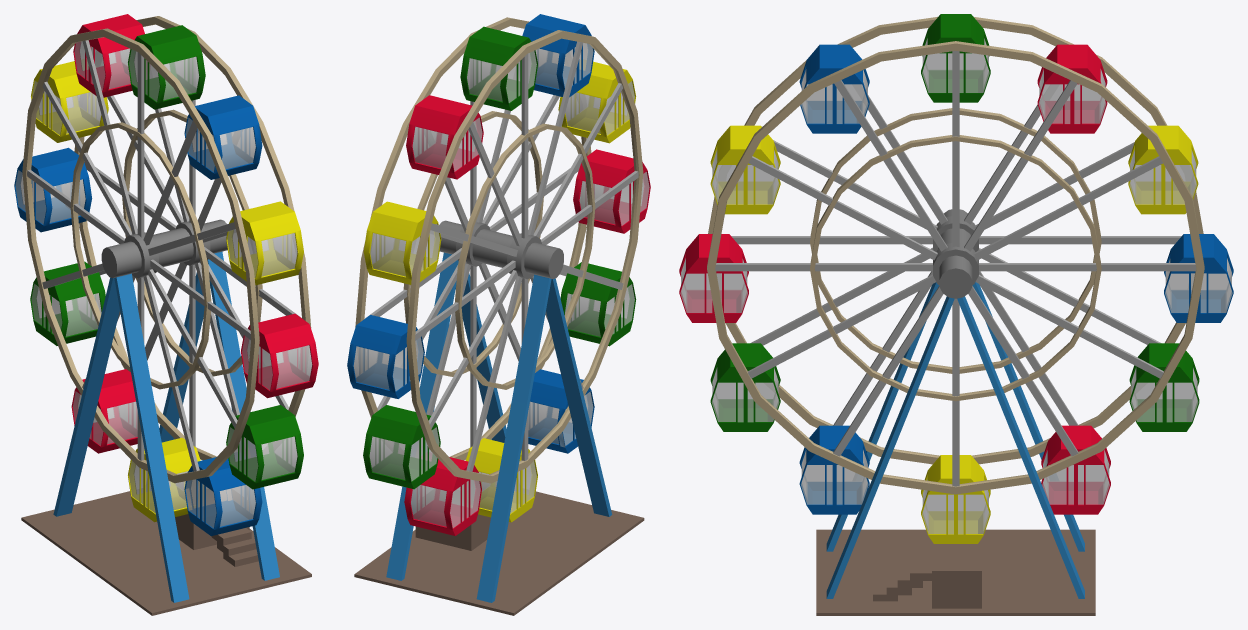
The model's file is FerrisWheelANI.fbx.
3 renders of one model, left to right at view 1: azimuth 30°, elevation 25°; view 2: azimuth 150°, elevation 25°; view 3: azimuth 270°, elevation 25°, orthographic. The views are drawn at different scales.
Parts seen in each view (by area): view 1: Stand, Base, Wheel, InnerWheel, Cart_3, Cart_4, Cart_5, Cart_6, Cart_7, SteelBeam_5, Cart_2, Cart_10 (+15 smaller); view 2: Stand, Base, Wheel, InnerWheel, Cart_11, Cart_10, Cart_9, Cart_8, Cart_7, SteelBeam_3, Cart_12, Cart_4 (+14 smaller); view 3: Wheel, Base, InnerWheel, Stand, SteelBeam_1, SteelBeam_2, SteelBeam_3, SteelBeam_5, SteelBeam_7, Cart_1, Cart_2, Cart_12 (+14 smaller).
Part boxes in pixels (bbox=[...]): Stand: bbox=[53, 251, 279, 602]; Base: bbox=[21, 491, 311, 615]; Wheel: bbox=[22, 16, 311, 483]; InnerWheel: bbox=[70, 109, 262, 389]; Cart_3: bbox=[226, 405, 303, 489]; Cart_4: bbox=[241, 313, 318, 398]; Cart_5: bbox=[226, 201, 303, 285]; Cart_6: bbox=[184, 95, 262, 179]; Cart_7: bbox=[128, 25, 205, 109]; SteelBeam_5: bbox=[82, 40, 239, 471]; Cart_2: bbox=[184, 457, 262, 536]; Cart_10: bbox=[14, 147, 92, 232]; Stand: bbox=[386, 252, 612, 602]; Base: bbox=[354, 491, 644, 615]; Wheel: bbox=[355, 17, 643, 483]; InnerWheel: bbox=[403, 111, 595, 389]; Cart_11: bbox=[363, 405, 440, 489]; Cart_10: bbox=[347, 315, 424, 398]; Cart_9: bbox=[363, 201, 441, 284]; Cart_8: bbox=[406, 95, 483, 179]; Cart_7: bbox=[460, 26, 537, 110]; SteelBeam_3: bbox=[426, 41, 582, 471]; Cart_12: bbox=[404, 457, 481, 535]; Cart_4: bbox=[573, 149, 650, 233]; Wheel: bbox=[707, 16, 1204, 494]; Base: bbox=[816, 529, 1095, 615]; InnerWheel: bbox=[810, 108, 1101, 401]; Stand: bbox=[826, 282, 1084, 598]; SteelBeam_1: bbox=[715, 236, 1196, 271]; SteelBeam_2: bbox=[748, 140, 1163, 378]; SteelBeam_3: bbox=[834, 80, 1078, 456]; SteelBeam_5: bbox=[833, 80, 1077, 456]; SteelBeam_7: bbox=[748, 142, 1162, 378]; Cart_1: bbox=[921, 455, 990, 543]; Cart_2: bbox=[799, 425, 869, 514]; Cart_12: bbox=[1041, 425, 1110, 514].
Bounding box in the file's own units: 3.53 × 10.81 × 9.9.
